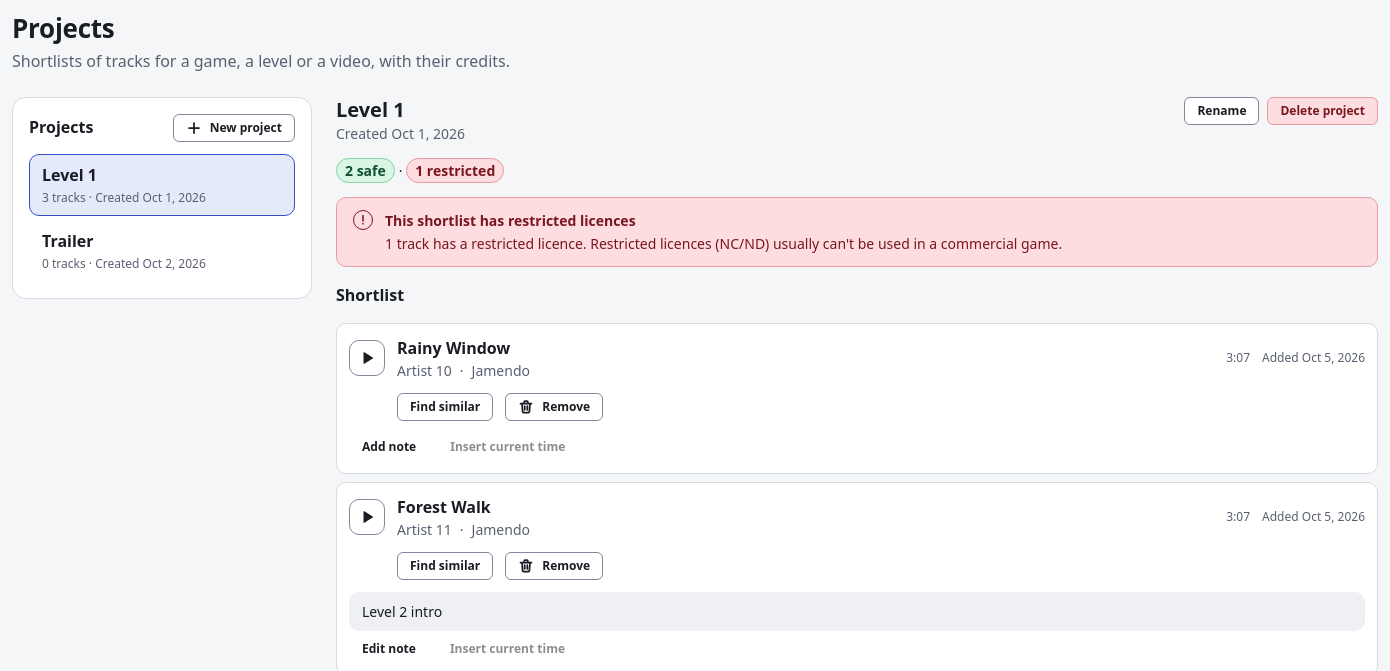
Test: Projects page › a project › renames with Enter
Step 1. Click the button "Rename" → point(1222, 110), box [1184, 96, 1260, 124]
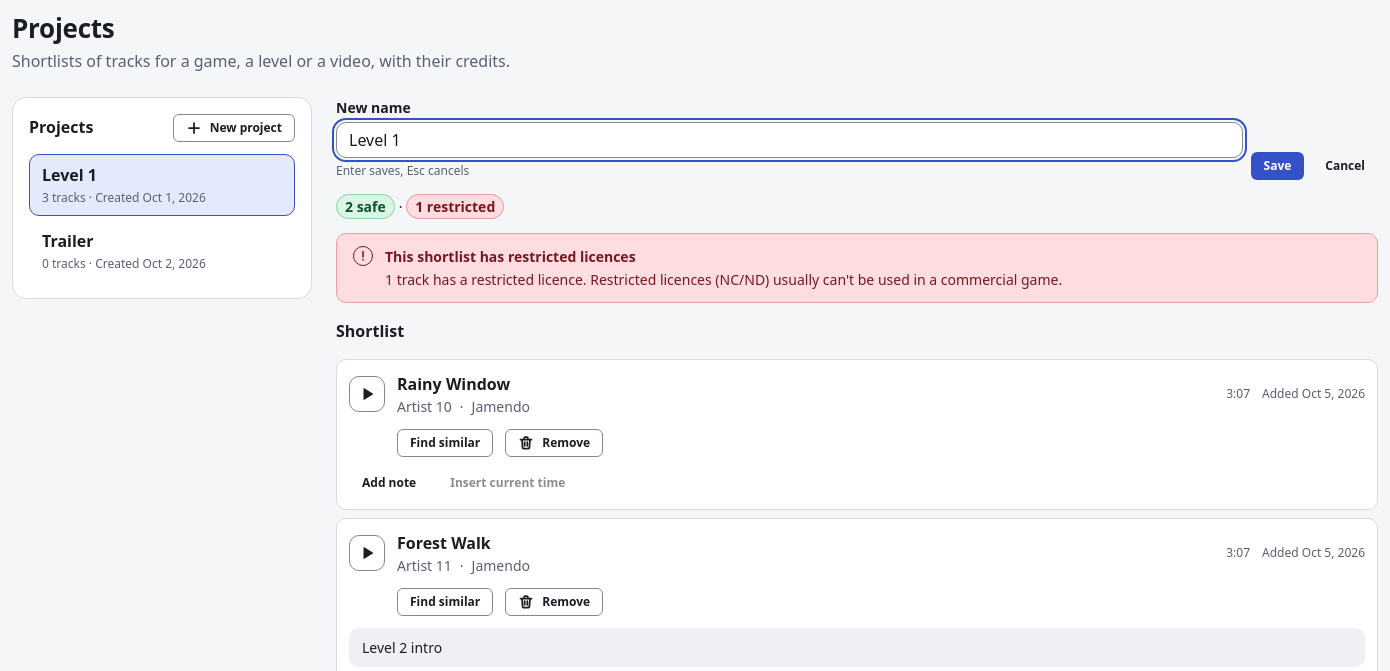
Result: the field labelled "New name" holds "Level 1"
Step 2. Replace the text in the field labelled "New name" with "Level One" → point(789, 140), box [336, 122, 1242, 158]
Then press Enter
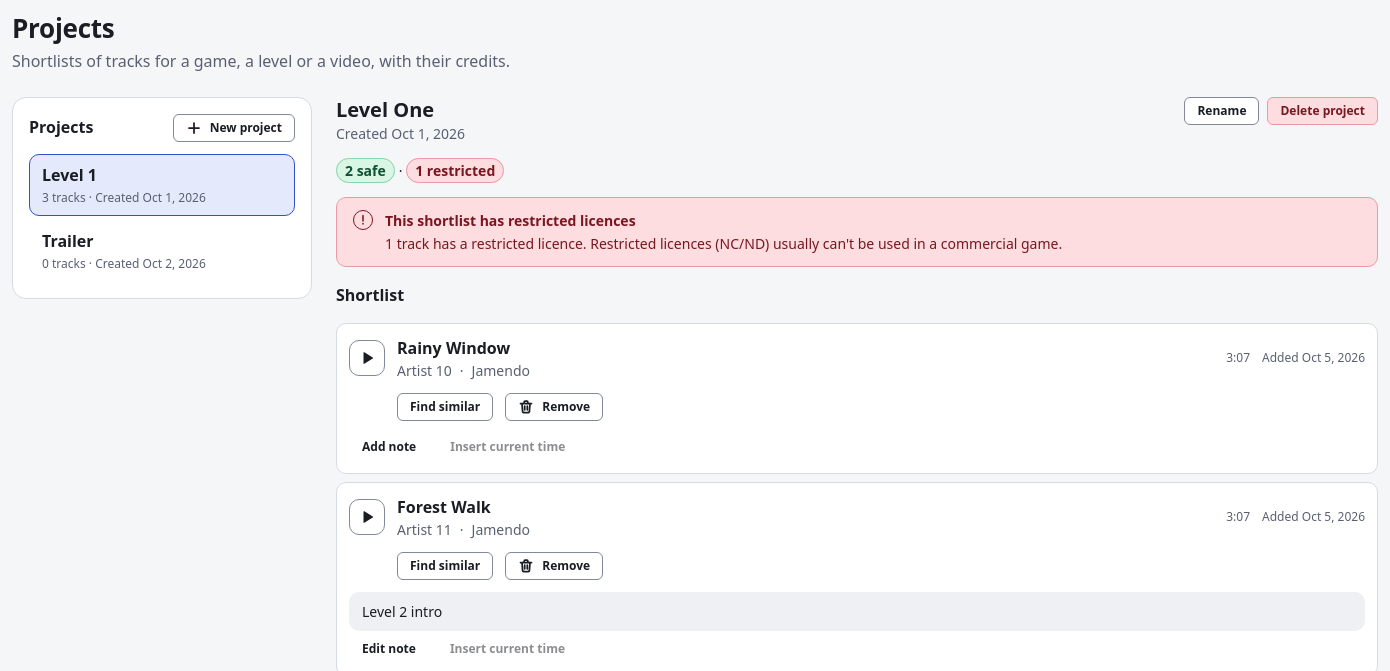
Result: the heading "Level One" is shown at [336, 96, 434, 122]
Result: the label "New name" is gone
